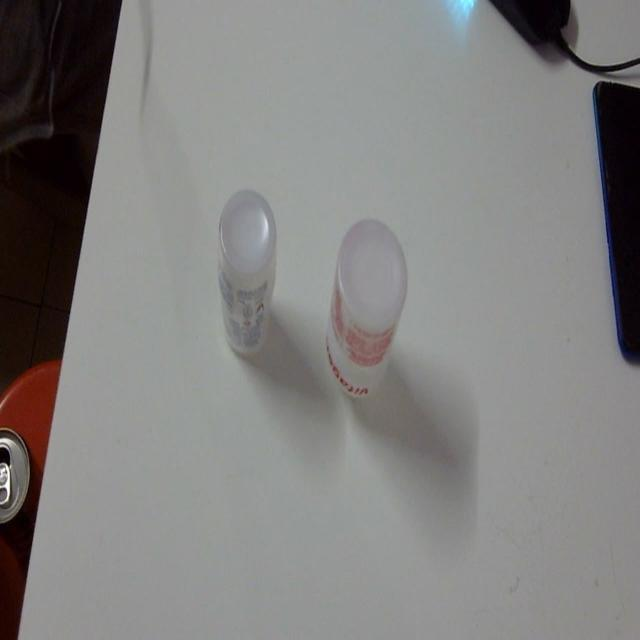plastic_standrotation: (316, 203, 412, 422), (209, 184, 288, 373)
